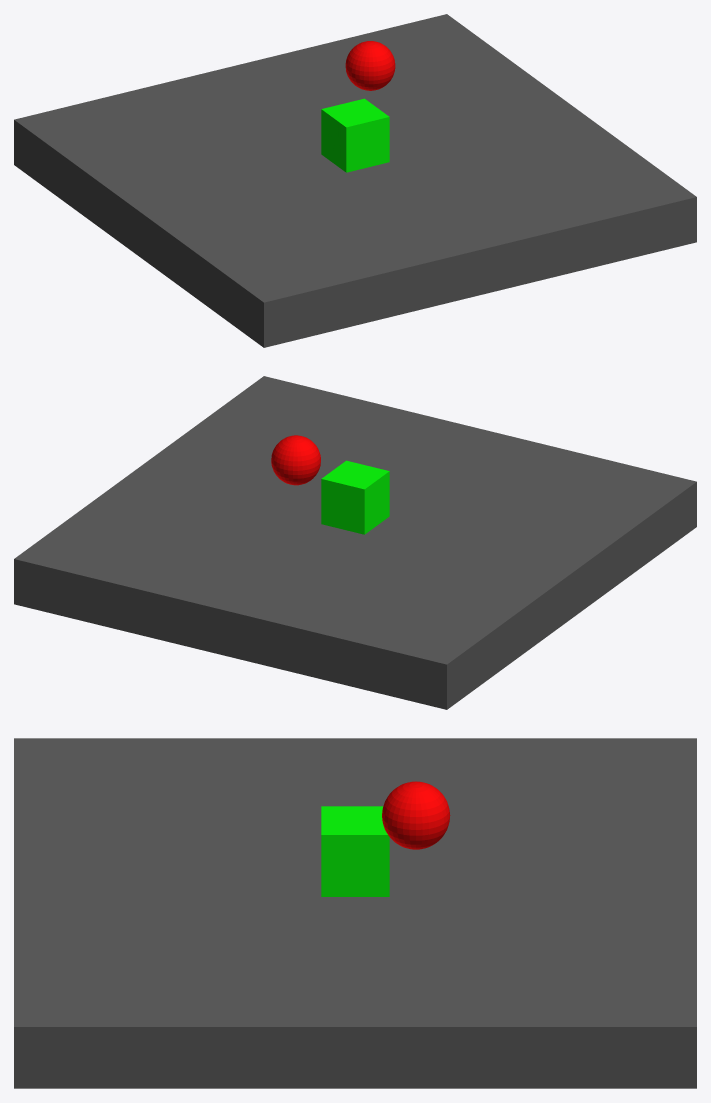
The model's file is demo_scene.obj.
3 views of the same model, one above another, from view 1: azimuth 30°, elevation 25°; view 2: azimuth 150°, elevation 25°; view 3: azimuth 270°, elevation 25° (orthographic). The views are drawn at different scales.
Parts seen in each view (by area): view 1: Floor_Cube.001, Cube, Sphere; view 2: Floor_Cube.001, Cube, Sphere; view 3: Floor_Cube.001, Cube, Sphere.
Part boxes in pixels (x1,y1,x2,y2): Floor_Cube.001: (14, 14, 696, 347); Cube: (321, 98, 389, 172); Sphere: (345, 41, 395, 90); Floor_Cube.001: (14, 376, 696, 709); Cube: (321, 460, 389, 534); Sphere: (271, 435, 320, 485); Floor_Cube.001: (14, 738, 696, 1088); Cube: (321, 806, 389, 896); Sphere: (382, 781, 450, 849).
Size of the model in its own units: 10 by 2.98 by 10.
